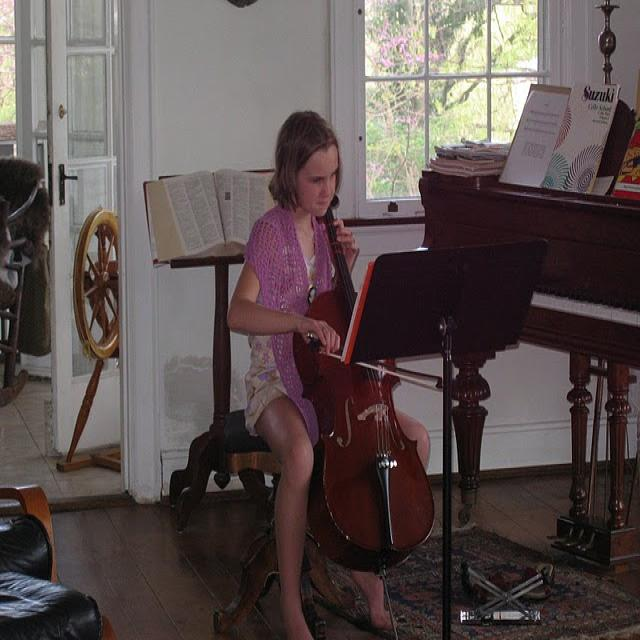cello: (292, 191, 437, 578)
